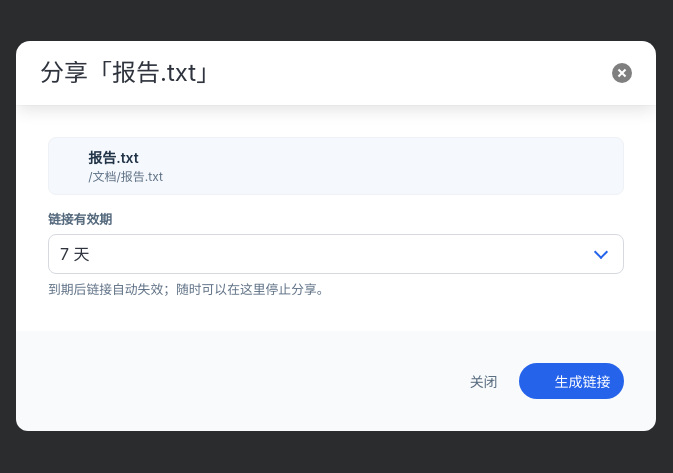
ShareDialog.vue › reports a readable error when link creation fails
The image size is (673, 473).
Step 1. Click the button "生成链接" → [572, 381], box left=519, top=363, right=624, bottom=399
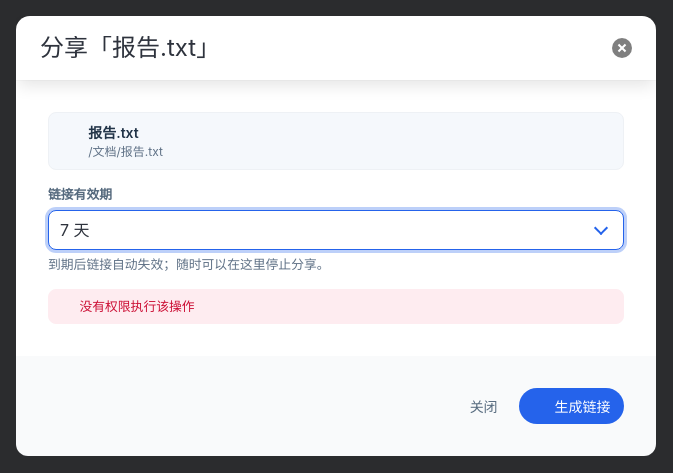
Now the message reads "没有权限执行该操作", box left=79, top=299, right=195, bottom=314
